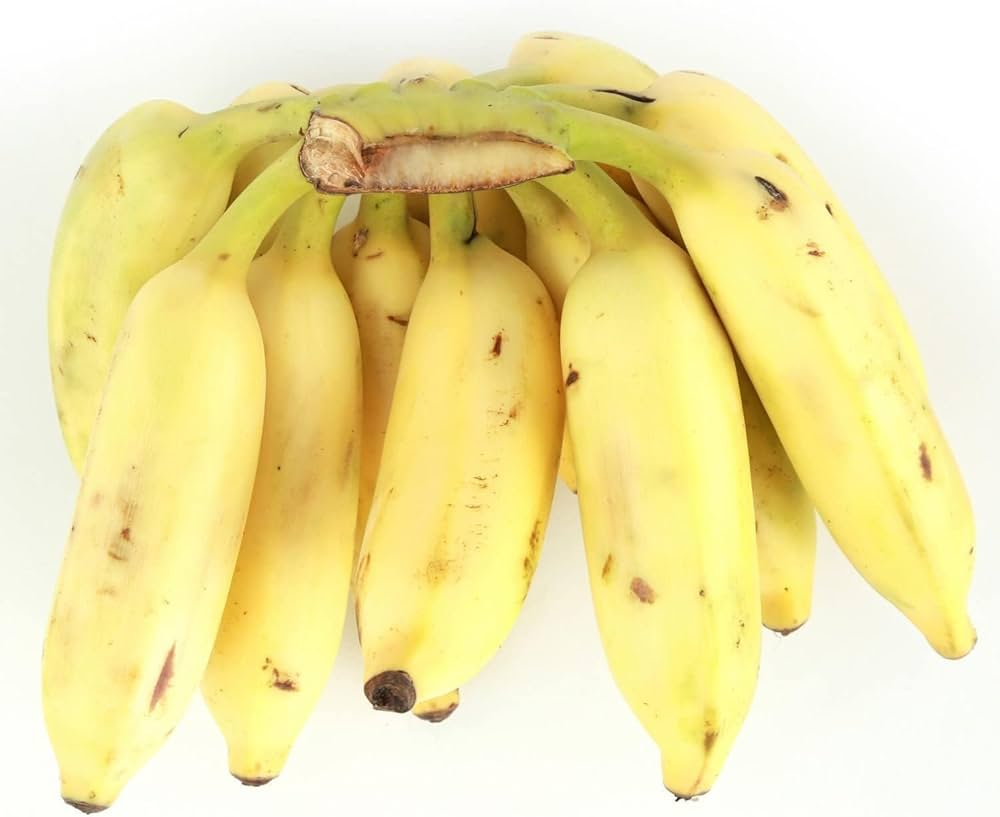banana: (47, 32, 977, 809)
